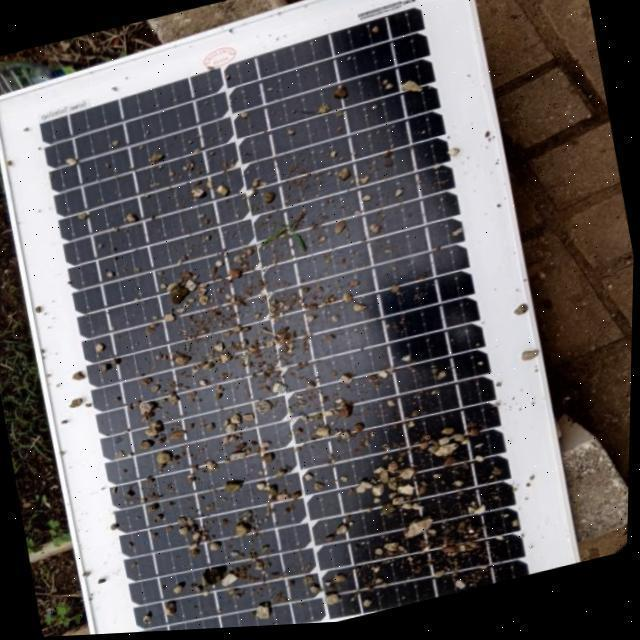Surface Contaminant: (14, 0, 574, 635)
